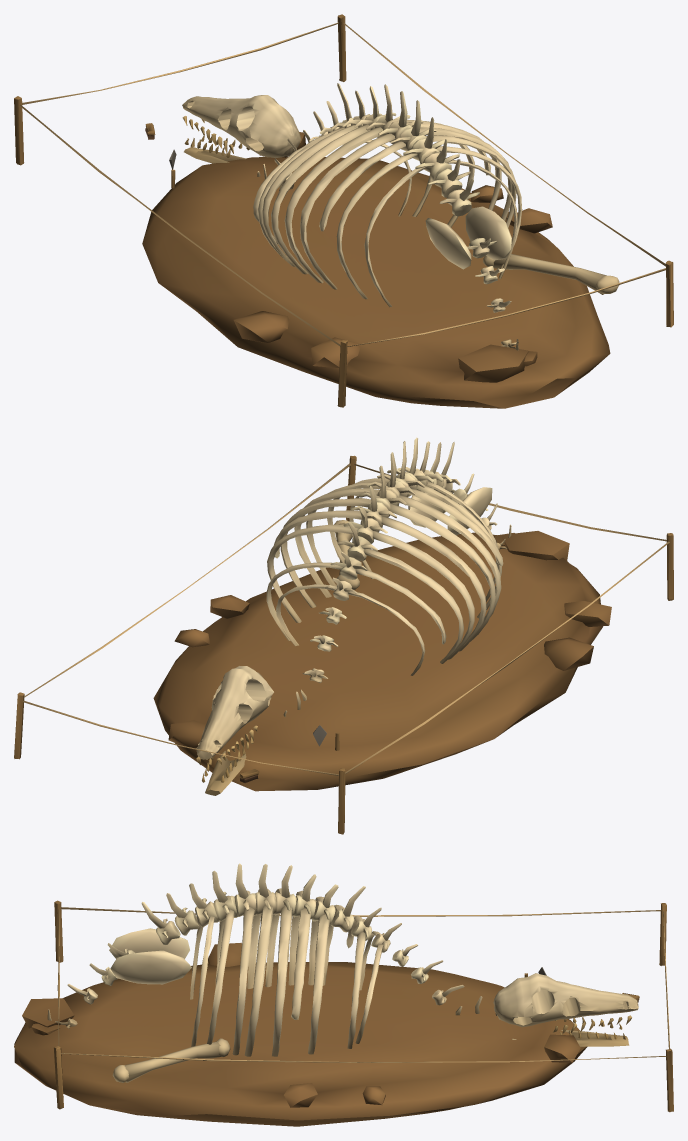
Rendered from ribcage.glb.
3 renders of one model, top to bottom at view 1: azimuth 30°, elevation 25°; view 2: azimuth 150°, elevation 25°; view 3: azimuth 270°, elevation 25°, orthographic. The views are drawn at different scales.
Parts seen in each view (by area): view 1: Ribcage; view 2: Ribcage; view 3: Ribcage.
Boxes of the visible parts, <box> form: Ribcage: <box>14,14,673,408</box>; Ribcage: <box>14,437,673,834</box>; Ribcage: <box>14,863,673,1126</box>.
Size of the model in its own units: 2.5 by 1.63 by 4.47.
